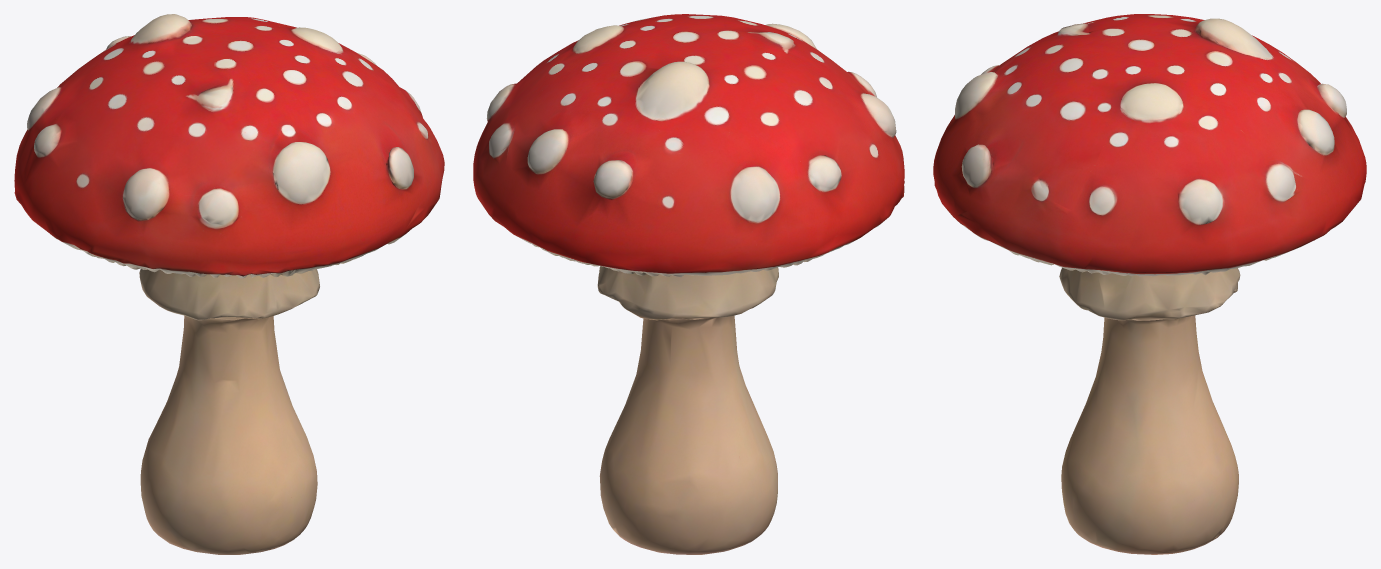
Rendered from mushroom_toadstool.glb.
3 renders of one model, left to right at view 1: azimuth 30°, elevation 25°; view 2: azimuth 150°, elevation 25°; view 3: azimuth 270°, elevation 25°, orthographic.
Size of the model in its own units: 1.6 by 2 by 1.6.
Materials: 1 (1 with a texture image).
